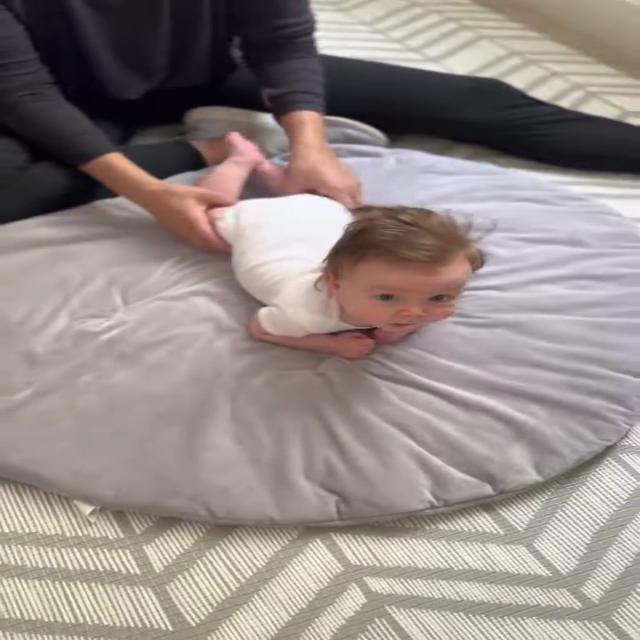baby: (183, 129, 500, 365)
